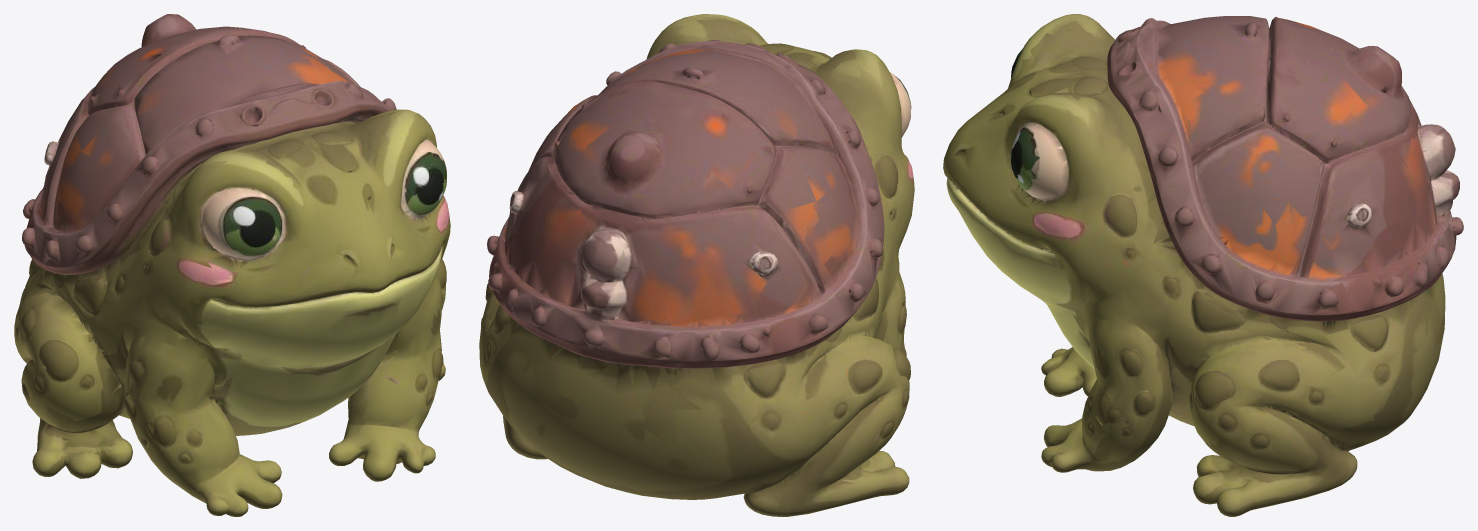
File: limpetor.glb
3 renders of one model, left to right at view 1: azimuth 30°, elevation 25°; view 2: azimuth 150°, elevation 25°; view 3: azimuth 270°, elevation 25°, orthographic. The views are drawn at different scales.
Visible parts, largest first — view 1: Mesh_0; view 2: Mesh_0; view 3: Mesh_0.
Boxes of the visible parts, bbox=[...] form: Mesh_0: bbox=[14, 14, 450, 516]; Mesh_0: bbox=[479, 14, 914, 516]; Mesh_0: bbox=[943, 14, 1463, 516].
Bounding box in the file's own units: 1.76 × 1.6 × 1.89.
1 material, 1 textured.
